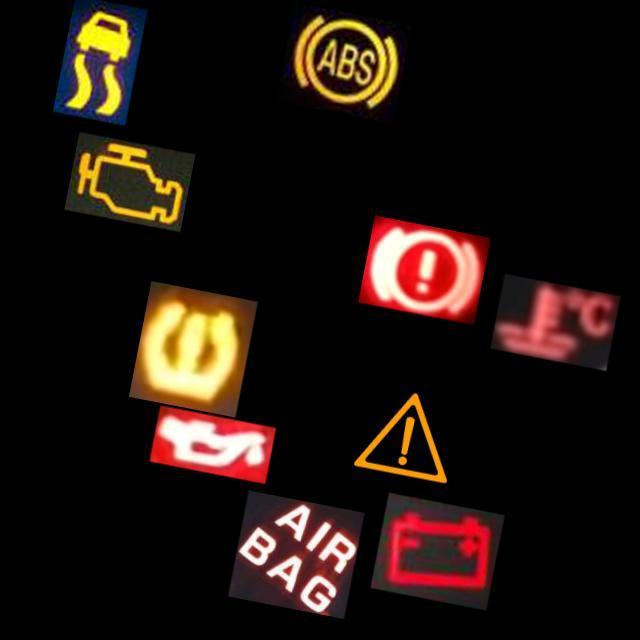Central Warning lamp: (339, 366, 477, 504)
Engine cooling system: (490, 274, 620, 371)
